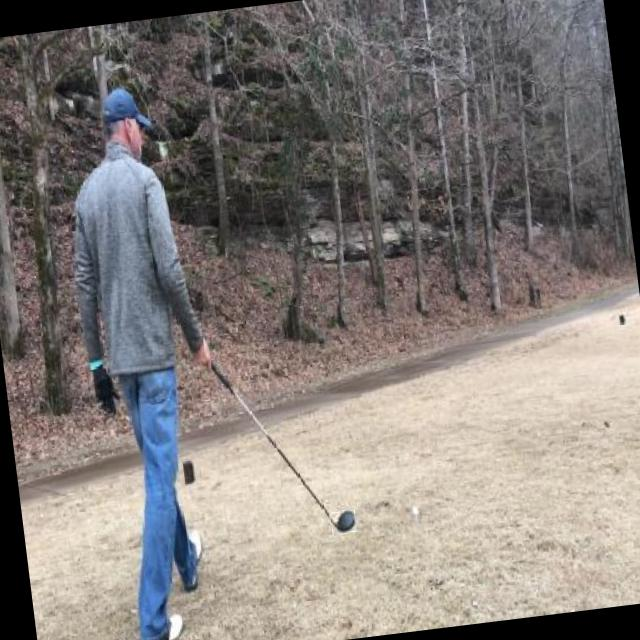club head: (330, 509, 358, 534)
